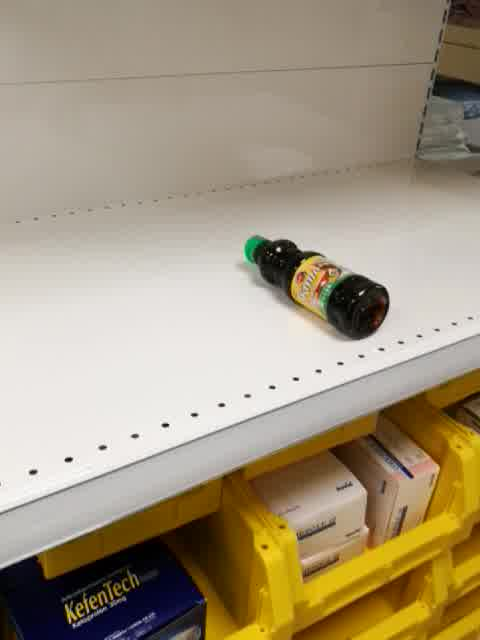cookingoil: (241, 230, 391, 343)
